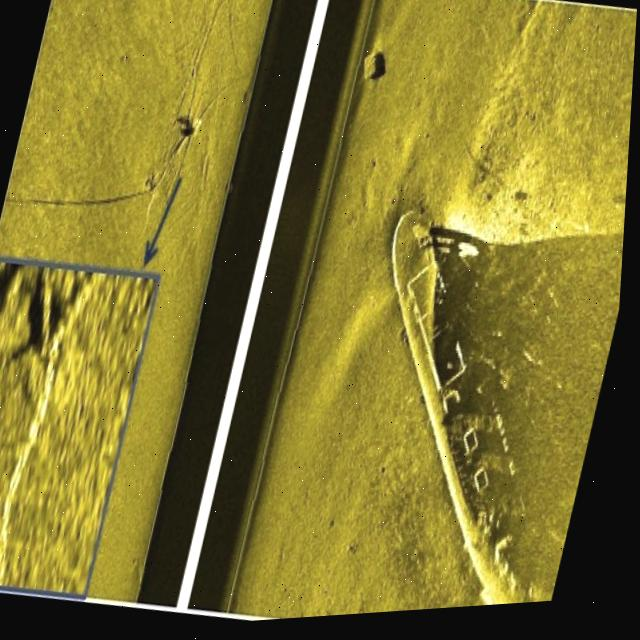shipwreck: (307, 191, 629, 622)
